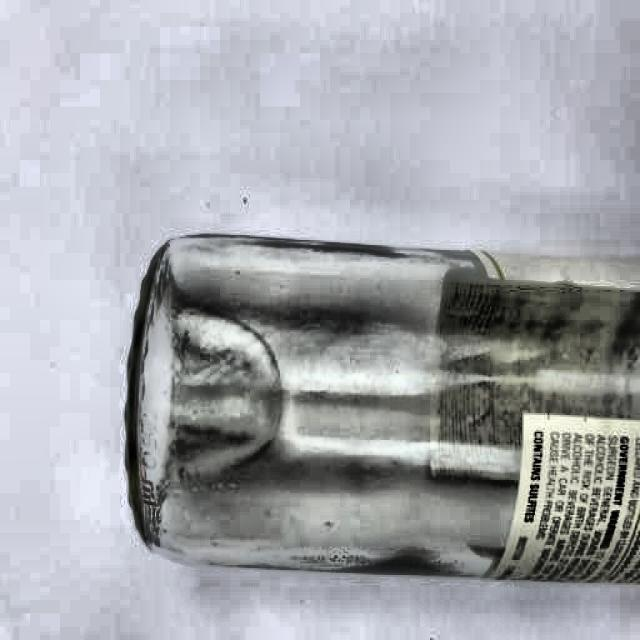glass: (119, 235, 640, 592)
